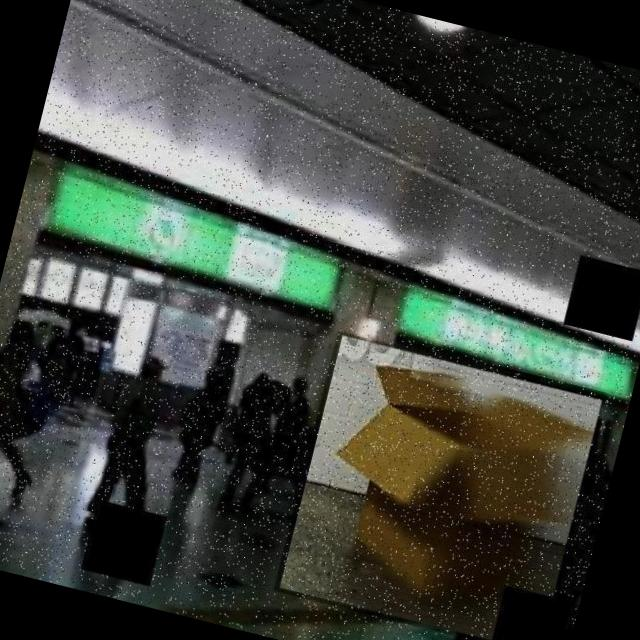box: (271, 330, 604, 640)
